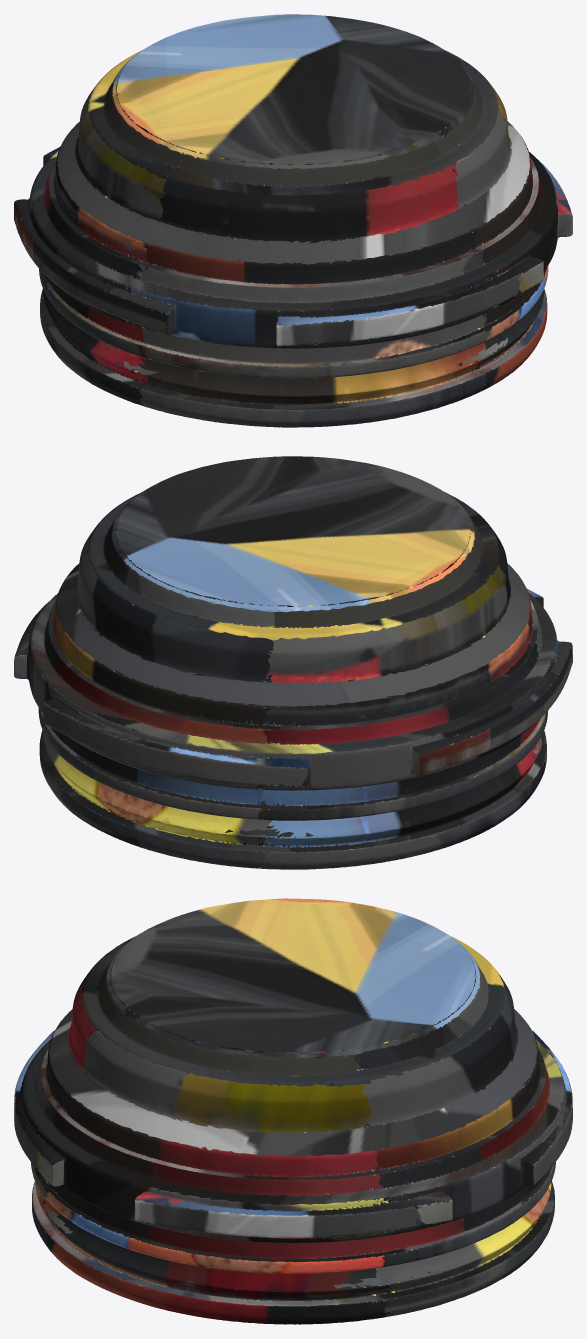
The model's file is Cube_Generation_top.fbx.
3 renders of one model, top to bottom at view 1: azimuth 30°, elevation 25°; view 2: azimuth 150°, elevation 25°; view 3: azimuth 270°, elevation 25°, orthographic. The views are drawn at different scales.
Parts seen in each view (by area): view 1: Cube_Generation_head; view 2: Cube_Generation_head; view 3: Cube_Generation_head.
Boxes of the visible parts, box(x1,y1,x2,y2) form: Cube_Generation_head: box(14, 14, 572, 427); Cube_Generation_head: box(14, 456, 572, 869); Cube_Generation_head: box(14, 898, 572, 1324).
Bounding box in the file's own units: 90.52 × 43.12 × 90.52.
